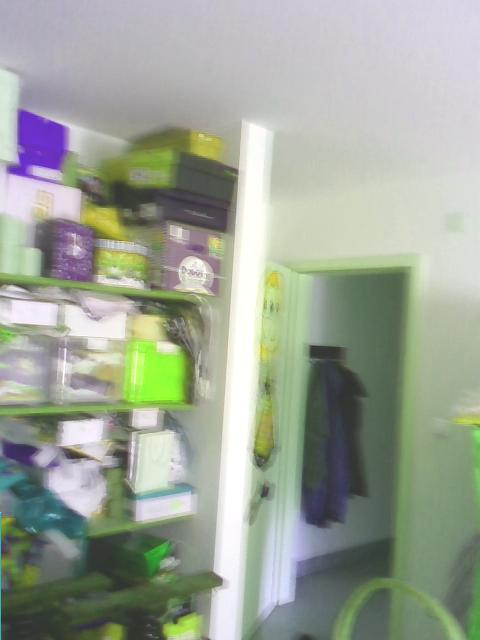open_door: (271, 248, 424, 638)
